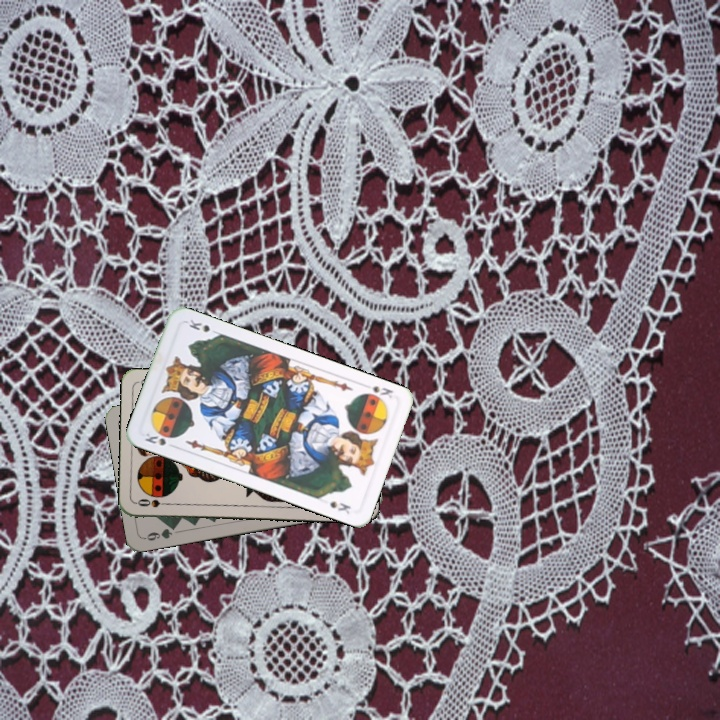G9: (140, 521, 180, 543)
SK: (141, 429, 179, 451), (369, 381, 396, 401)
SO: (133, 495, 174, 510)
